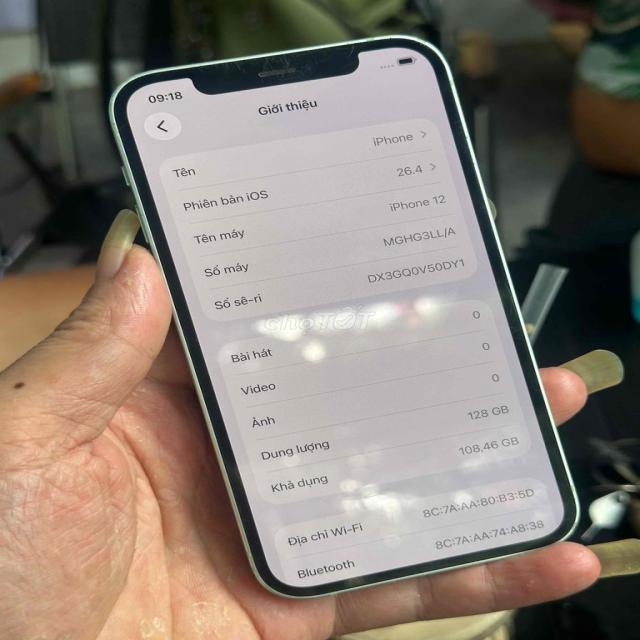gen_12_13: (108, 31, 588, 602)
